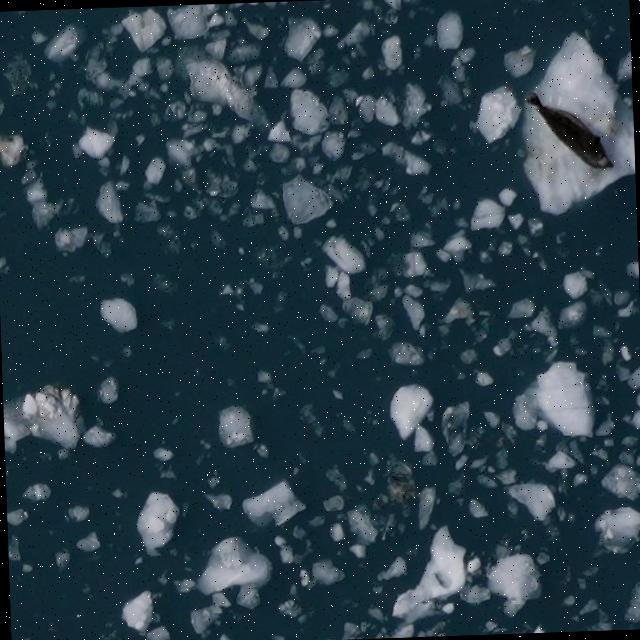seal: (520, 80, 621, 185)
